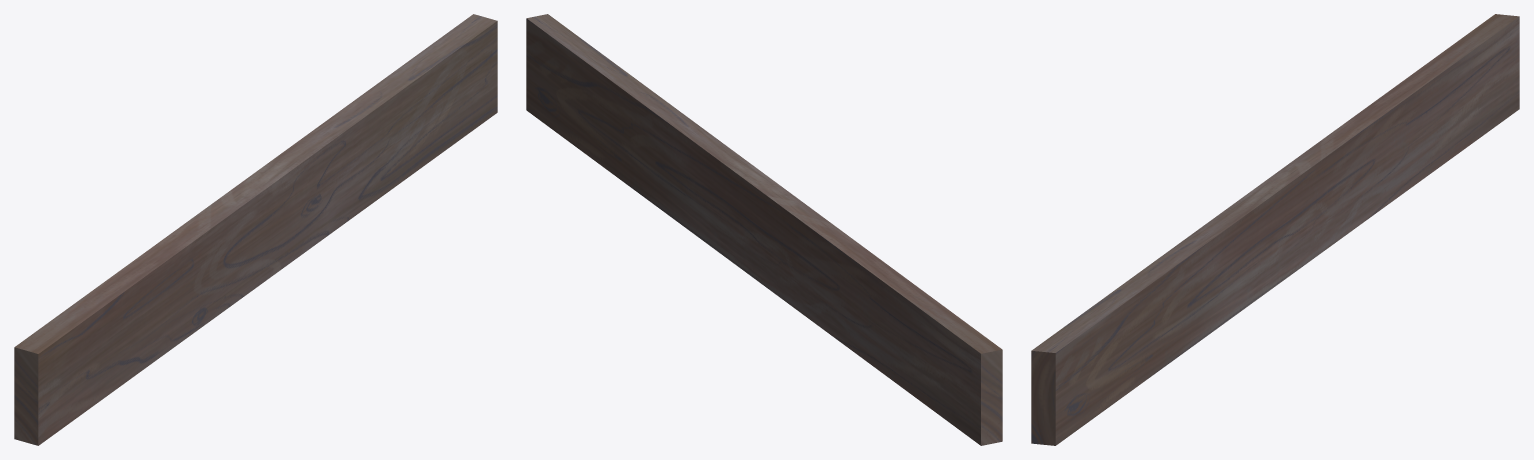
Rendered from long_board_013.fbx.
3 views of the same model, side by side, from view 1: azimuth 90°, elevation 25°; view 2: azimuth 150°, elevation 25°; view 3: azimuth 270°, elevation 25° (orthographic).
Parts seen in each view (by area): view 1: long board.013; view 2: long board.013; view 3: long board.013.
Boxes of the visible parts, x1,y1,x2,y2 form: long board.013: (14,14,497,445); long board.013: (526,14,1002,445); long board.013: (1031,14,1519,445).
Size of the model in its own units: 80.11 by 10.41 by 48.42.
